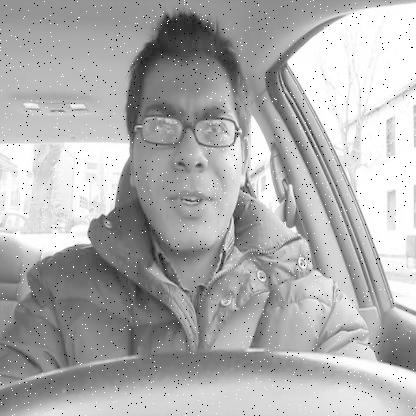seatbelt: (110, 0, 302, 346)
